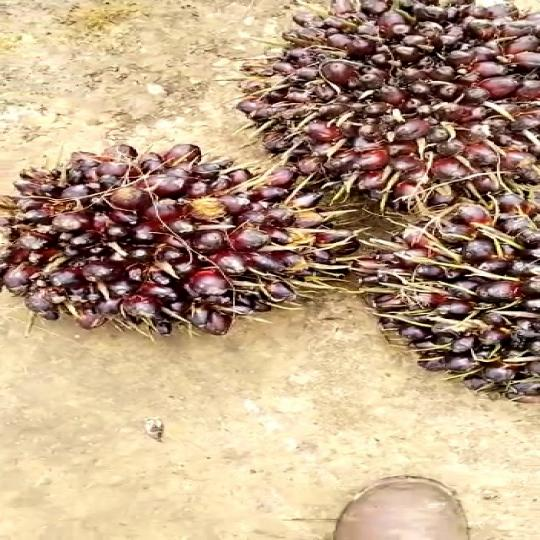mentah: (0, 140, 354, 352), (228, 0, 540, 220)
